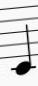LC: (8, 3, 37, 77)
